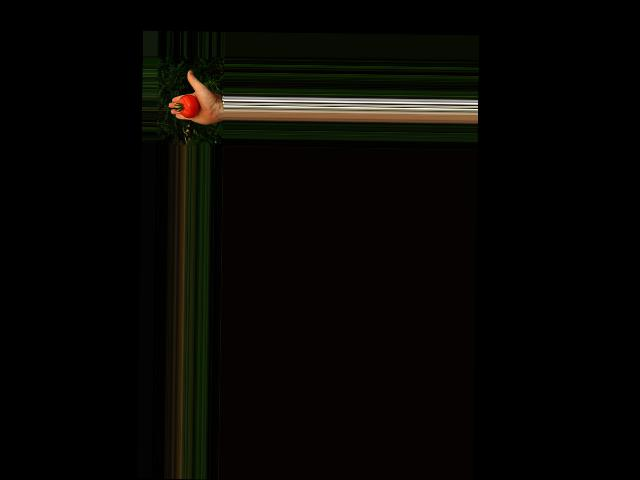tomato: (178, 94, 200, 119)
